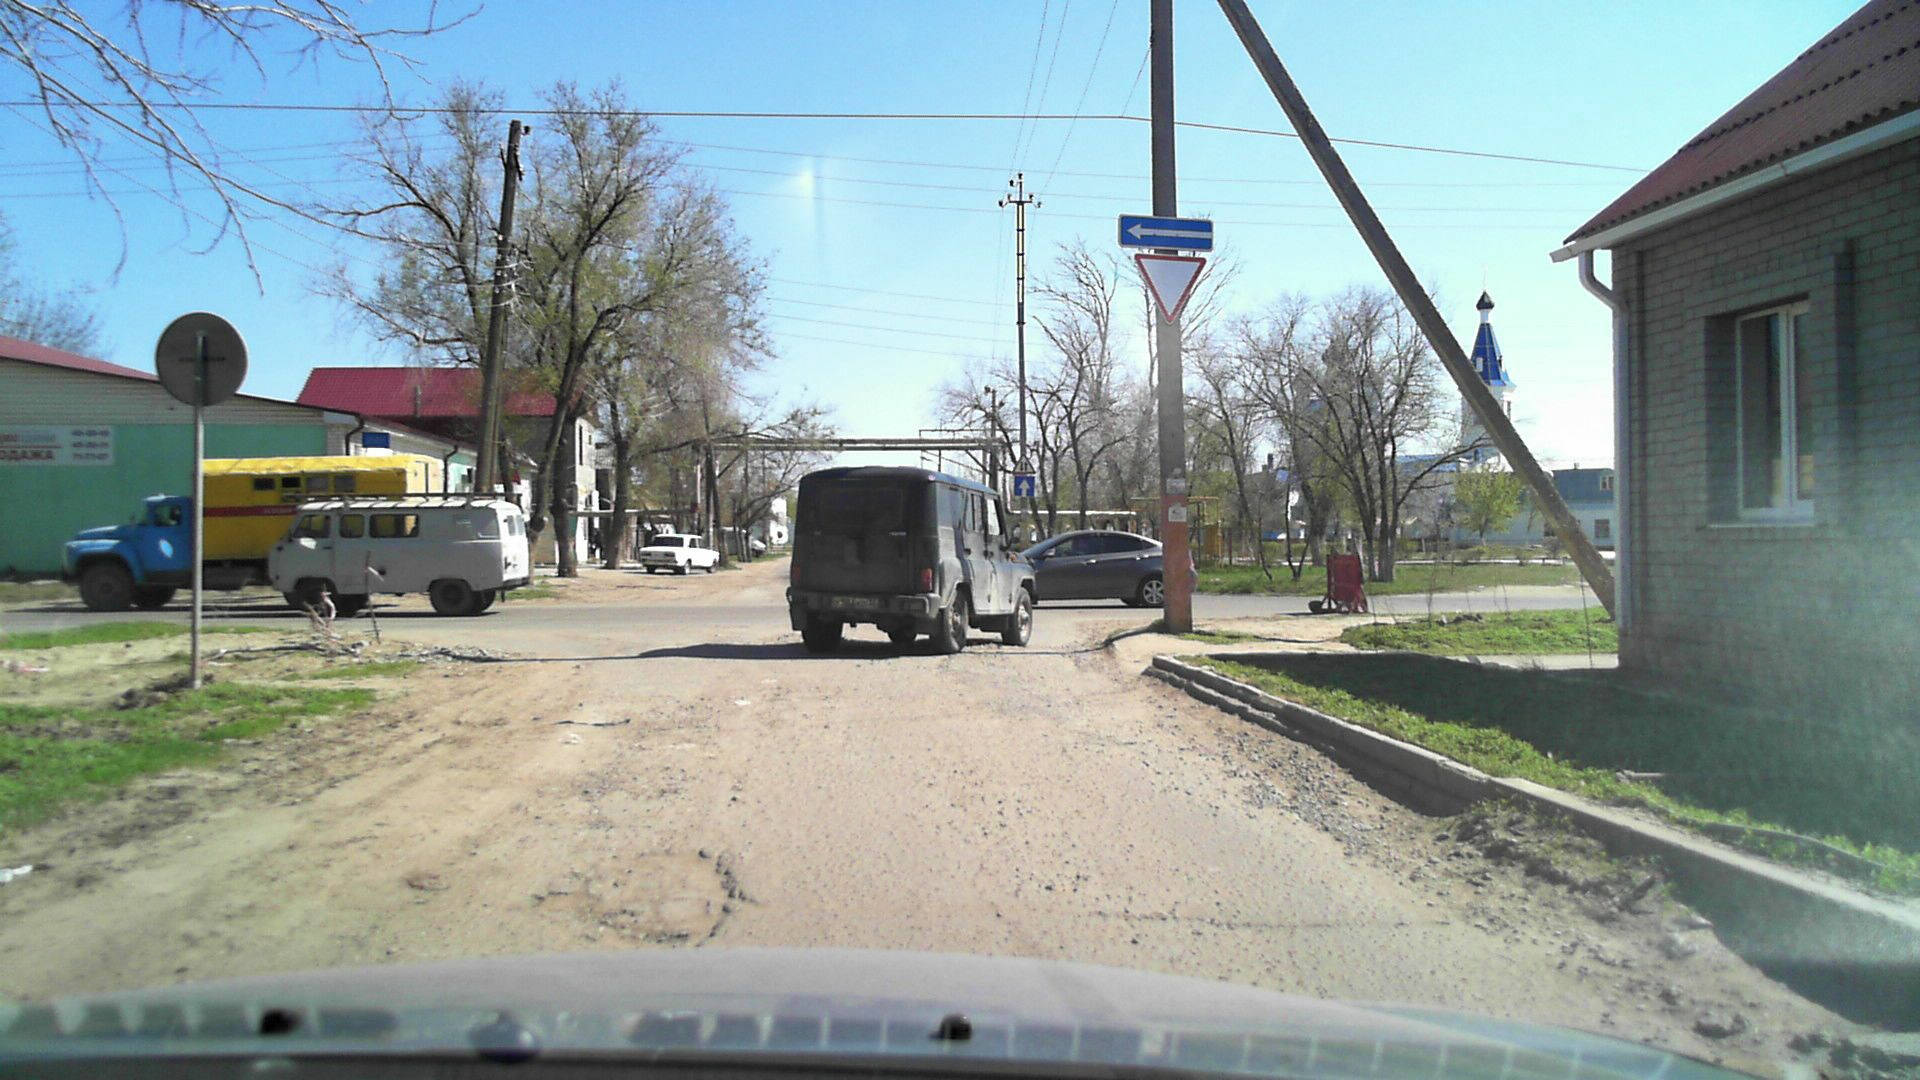One-Way Traffic: (1118, 214, 1215, 253)
